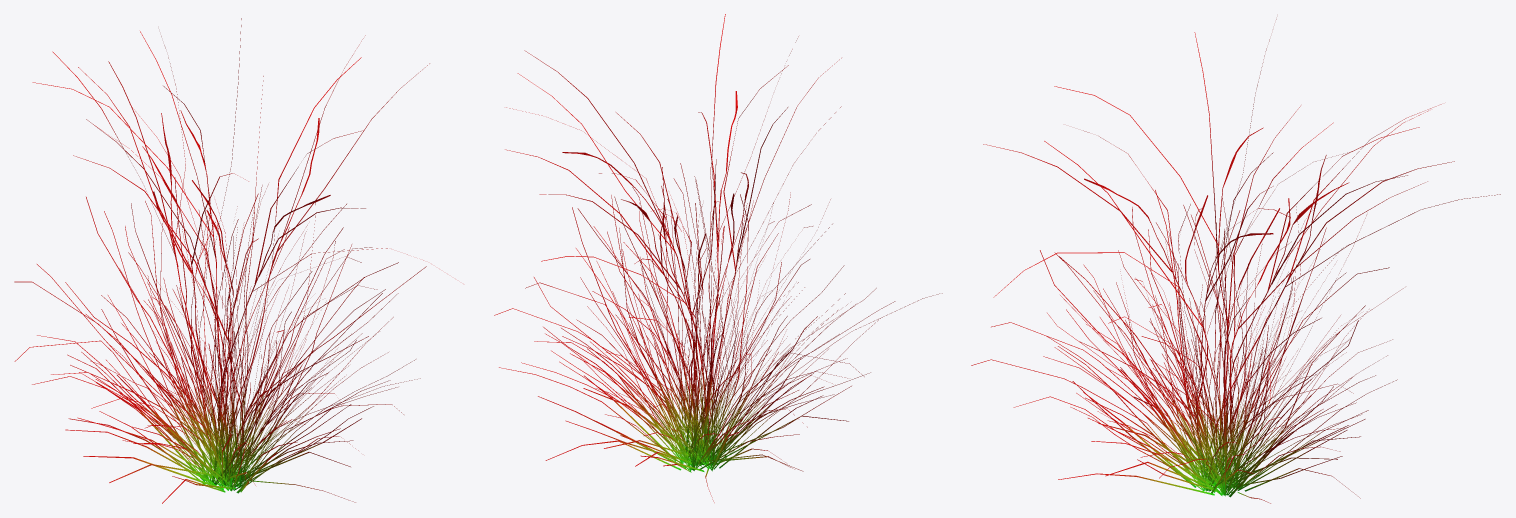
File: Xeric Grass_LOD2_Var7_xjfgdhaqx.fbx
3 views of the same model, side by side, from view 1: azimuth 30°, elevation 25°; view 2: azimuth 150°, elevation 25°; view 3: azimuth 270°, elevation 25° (orthographic). The views are drawn at different scales.
Parts seen in each view (by area): view 1: _qmj6_Var7_LOD2; view 2: _qmj6_Var7_LOD2; view 3: _qmj6_Var7_LOD2.
Part boxes in pixels (left/top/right/bottom): _qmj6_Var7_LOD2: left=14, top=18, right=429, bottom=503; _qmj6_Var7_LOD2: left=494, top=14, right=942, bottom=502; _qmj6_Var7_LOD2: left=971, top=19, right=1500, bottom=503.
Size of the model in its own units: 320 by 338 by 388.
